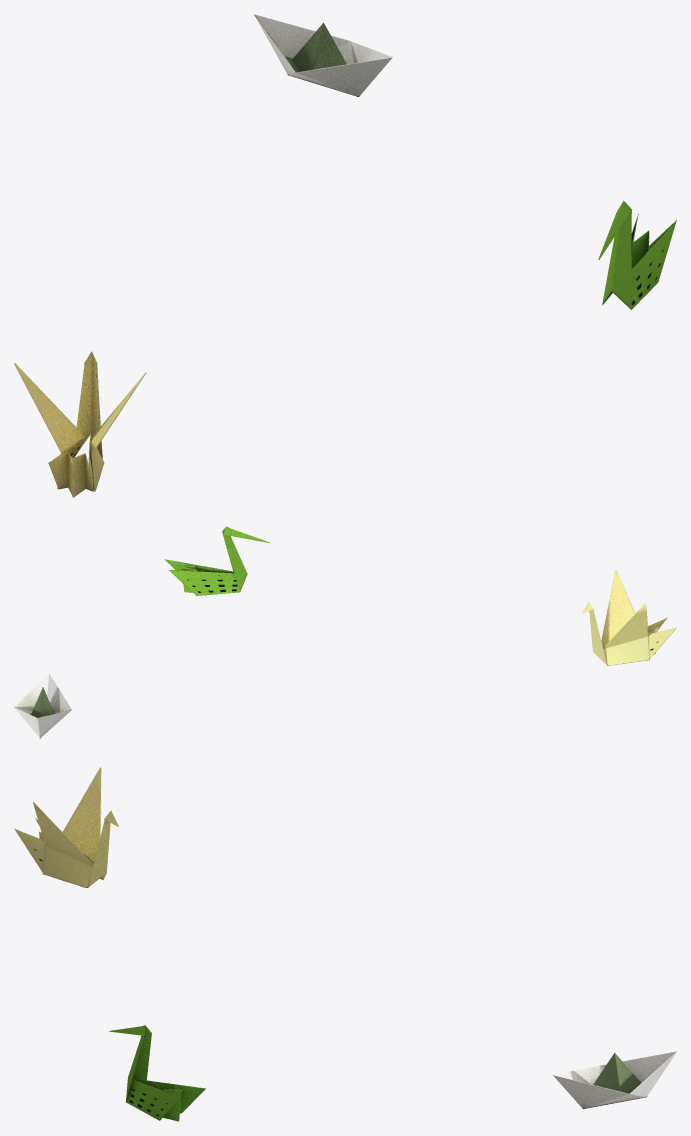
The model's file is ori1.gltf.
3 views of the same model, one above another, from view 1: azimuth 30°, elevation 25°; view 2: azimuth 150°, elevation 25°; view 3: azimuth 270°, elevation 25° (orthographic). The views are drawn at different scales.
Visible parts, largest first — view 1: ori1; view 2: ori1; view 3: ori1.
Part boxes in pixels (left/top/right/bottom): ori1: left=14, top=14, right=676, bottom=497; ori1: left=14, top=526, right=676, bottom=738; ori1: left=14, top=767, right=676, bottom=1121.
Size of the model in its own units: 0.5611 by 0.0845 by 0.5625.
1 material, 1 textured.
